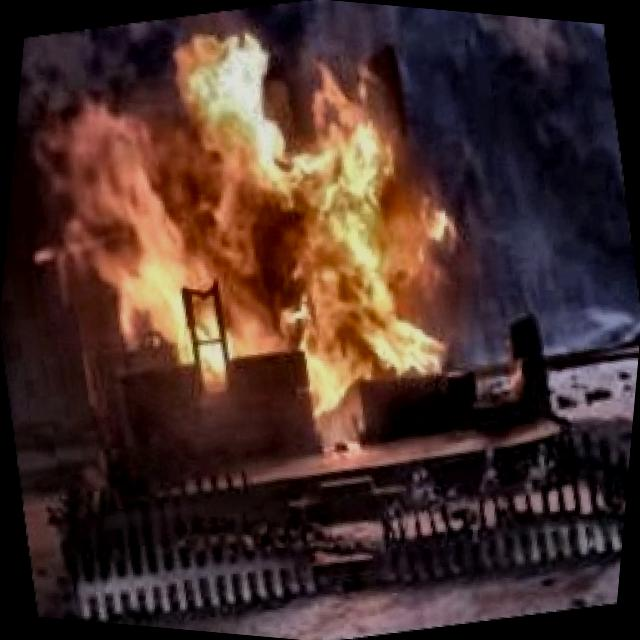fire: (0, 0, 529, 495)
